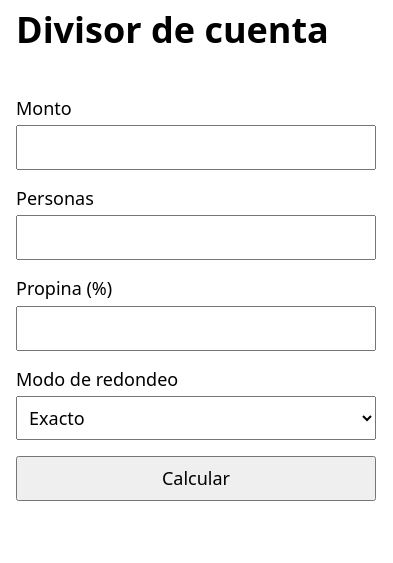
Test: PantallaDivisor: escenarios de US1 › monto con coma decimal: 10,50 / 1 / 0 → 10.50
Type "10,50" into the field labelled "Monto". click: point(196, 147)
box: [16, 125, 376, 170]
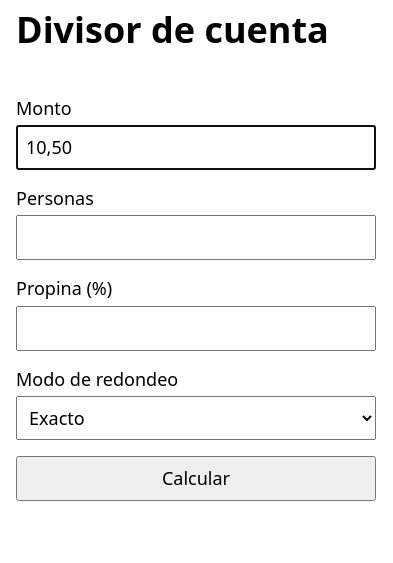
Type "1" into the field labelled "Personas". click: point(196, 238)
box: [16, 215, 376, 260]
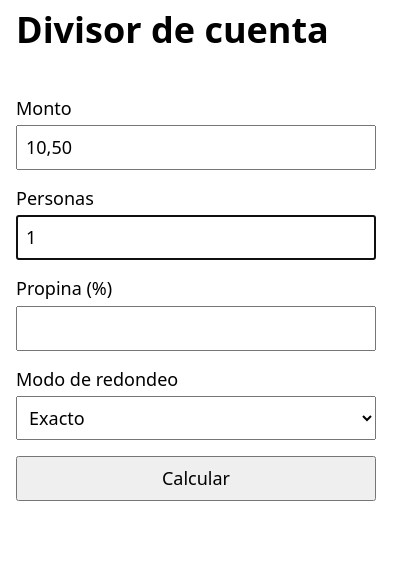
Type "0" into the field labelled "Propina (%)". click: point(196, 328)
box: [16, 306, 376, 351]
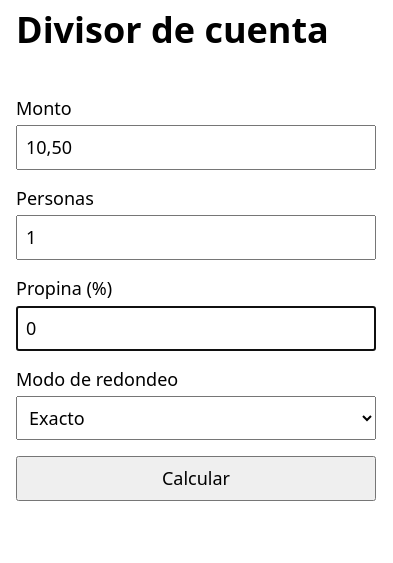
Click the button "Calcular". click: point(196, 478)
box: [16, 456, 376, 501]
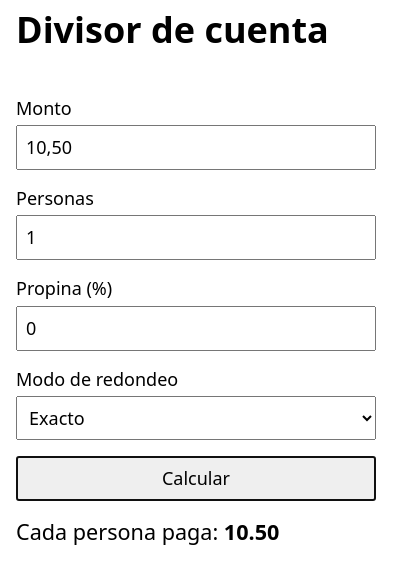
Check: the text "10.50" is shown, box [224, 517, 279, 546]
